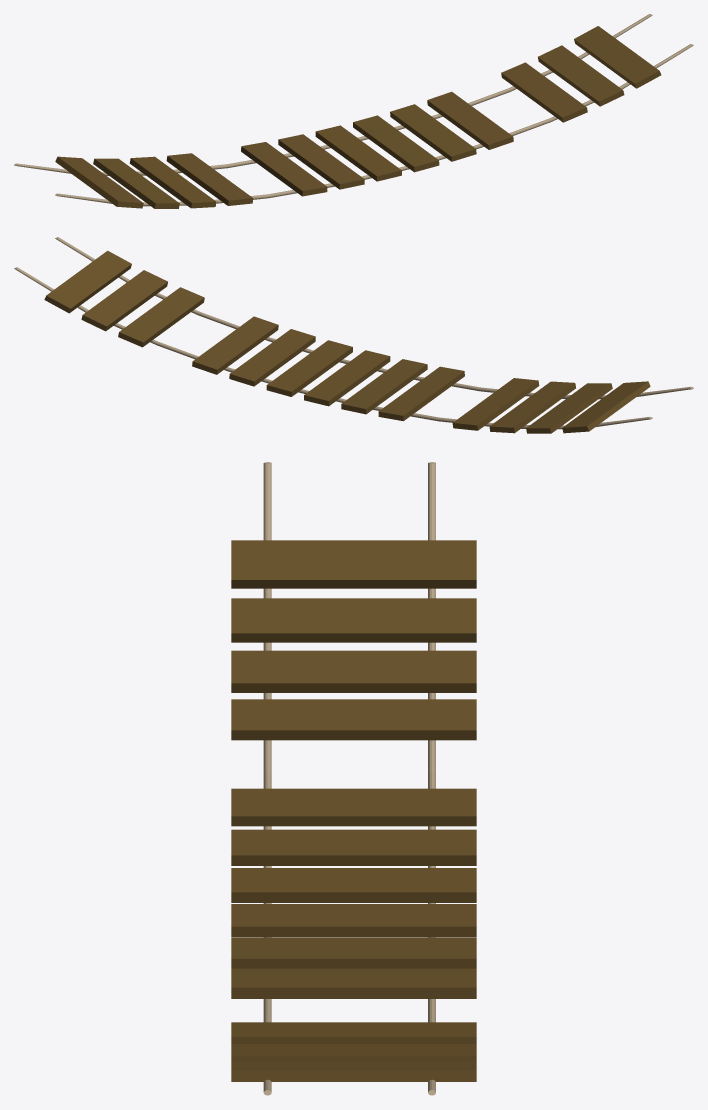
Rendered from bridge.fbx.
The picture shows the model from 3 angles, top to bottom: view 1: azimuth 30°, elevation 25°; view 2: azimuth 150°, elevation 25°; view 3: azimuth 270°, elevation 25°; orthographic projection. The views are drawn at different scales.
Visible parts, largest first — view 1: Cube, Cylinder.002, Cylinder.001; view 2: Cube, Cylinder.001, Cylinder.002; view 3: Cube, Cylinder.002, Cylinder.001.
Boxes of the visible parts, box(x1,y1,x2,y2) form: Cube: box(55, 26, 661, 208); Cylinder.002: box(55, 44, 693, 206); Cylinder.001: box(14, 14, 652, 175); Cube: box(44, 250, 650, 433); Cylinder.001: box(14, 267, 652, 429); Cylinder.002: box(55, 237, 693, 399); Cube: box(231, 540, 476, 1081); Cylinder.002: box(263, 462, 271, 1095); Cylinder.001: box(428, 462, 435, 1095).
Bounding box in the file's own units: 1403 × 128 × 234.
